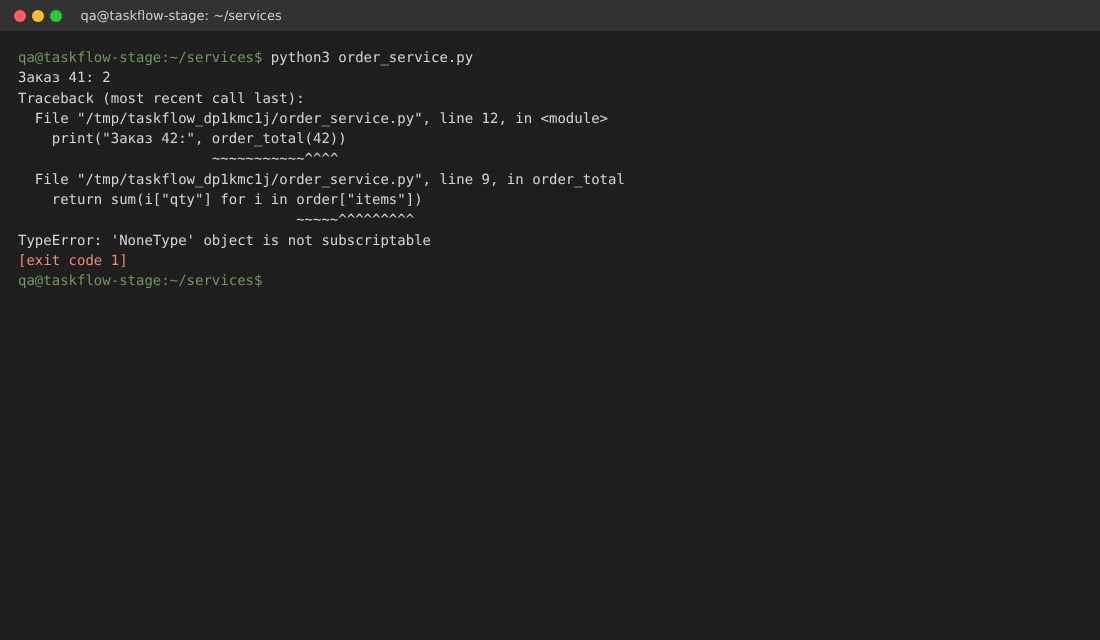ERROR_TEXT: (18, 234, 430, 248)
PII: (19, 51, 162, 66), (19, 274, 161, 288), (81, 10, 208, 23)
STACK_TRACE: (18, 92, 624, 248)
STATUS_INDICATOR: (21, 254, 125, 267)
